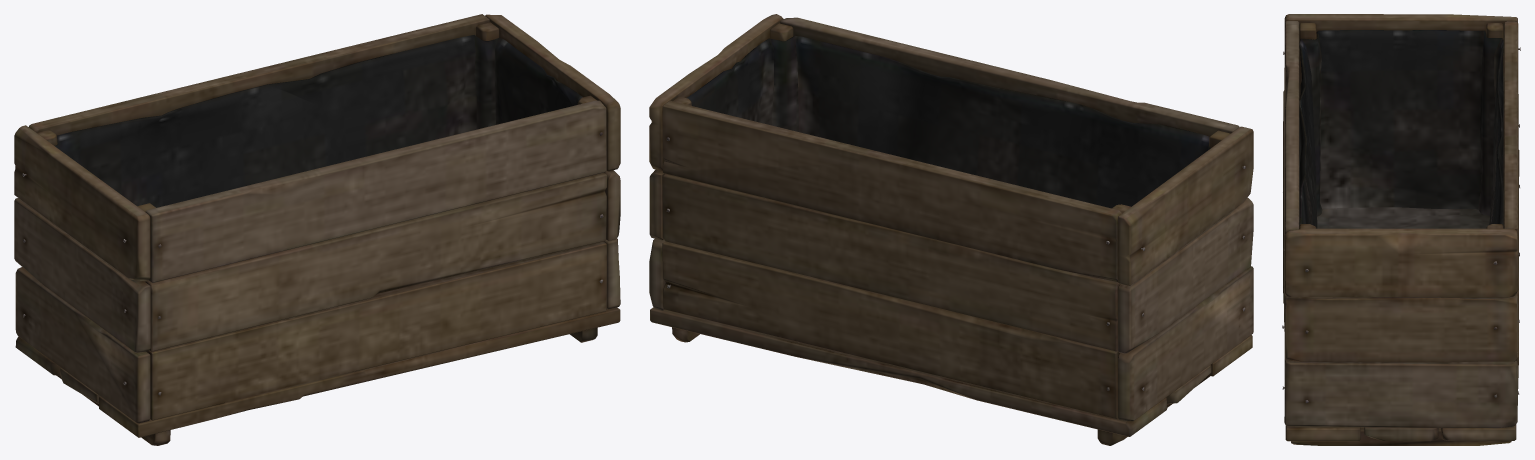
Rendered from planter_box_01.glb.
The picture shows the model from 3 angles, left to right: view 1: azimuth 30°, elevation 25°; view 2: azimuth 150°, elevation 25°; view 3: azimuth 270°, elevation 25°; orthographic projection. The views are drawn at different scales.
Parts seen in each view (by area): view 1: planter_box_01; view 2: planter_box_01; view 3: planter_box_01.
Boxes of the visible parts, x1=… form: planter_box_01: x1=14, y1=14, x2=620, y2=445; planter_box_01: x1=649, y1=14, x2=1253, y2=445; planter_box_01: x1=1282, y1=14, x2=1520, y2=445.
Size of the model in its own units: 0.9126 by 0.425 by 0.4137.
1 material, 1 textured.
